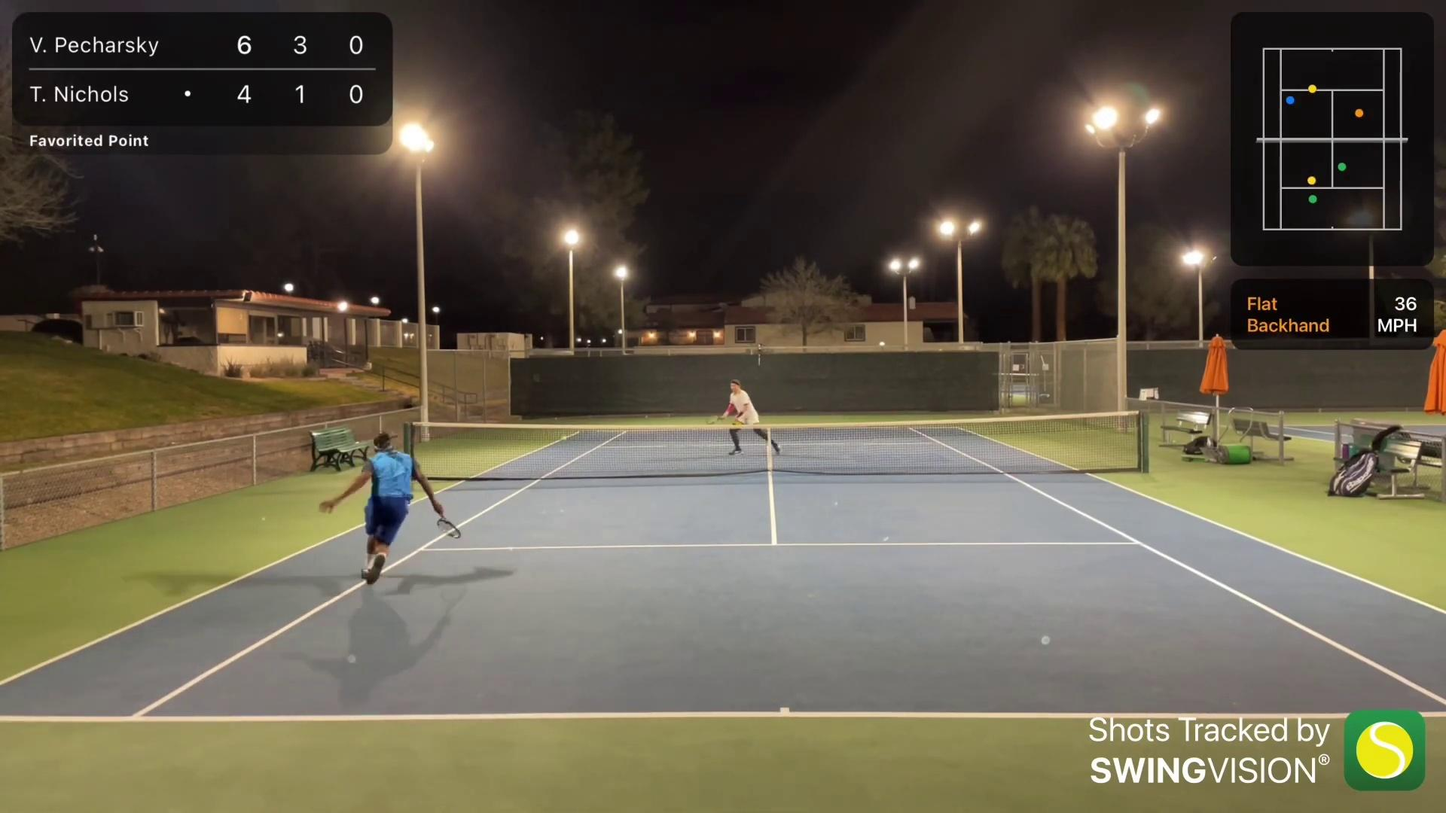ball: (559, 434, 567, 442)
